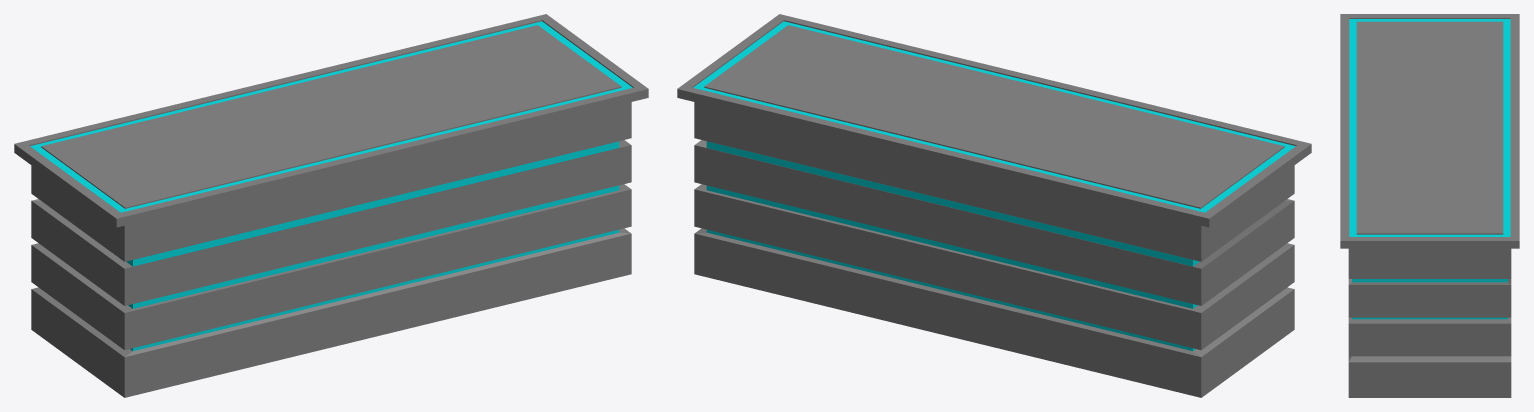
The model's file is Box_Triple.fbx.
3 views of the same model, side by side, from view 1: azimuth 30°, elevation 25°; view 2: azimuth 150°, elevation 25°; view 3: azimuth 270°, elevation 25° (orthographic). The views are drawn at different scales.
Parts seen in each view (by area): view 1: Box_Triple; view 2: Box_Triple; view 3: Box_Triple.
Boxes of the visible parts, <box> form: Box_Triple: <box>14,14,648,397</box>; Box_Triple: <box>677,14,1311,397</box>; Box_Triple: <box>1340,14,1519,397</box>.
Bounding box in the file's own units: 600 × 200 × 200.
